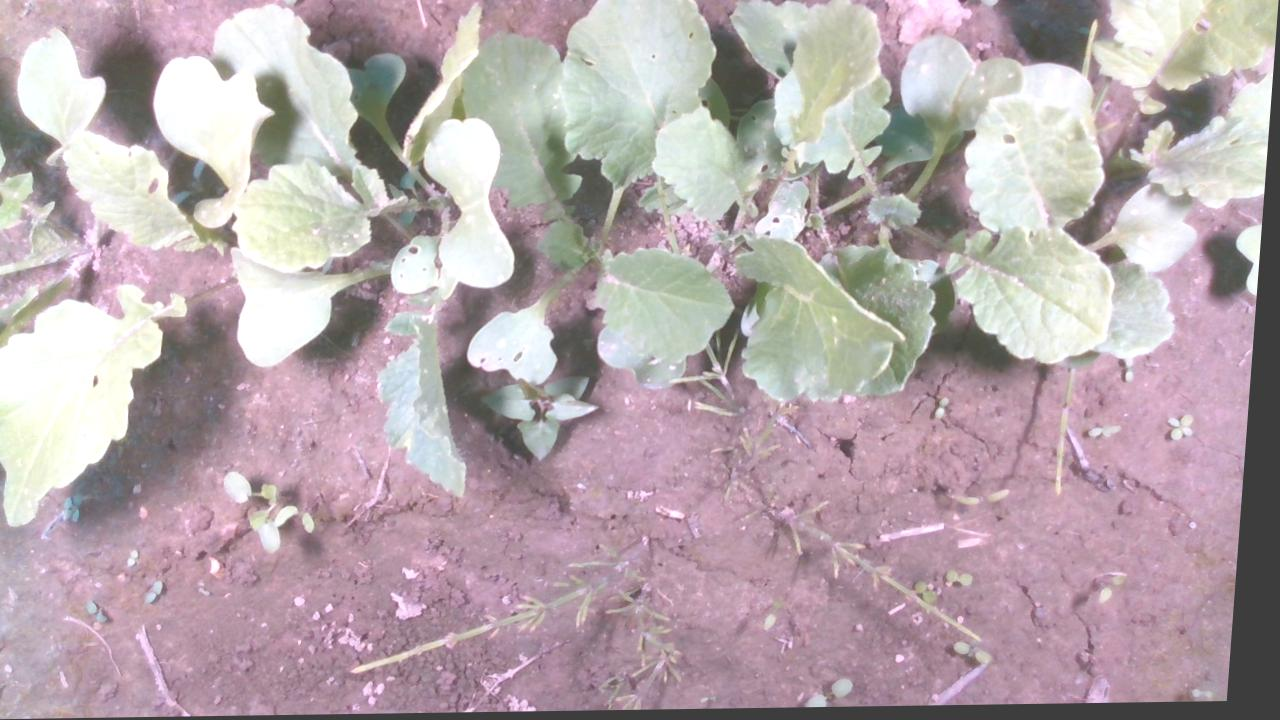weed: (956, 490, 1019, 509), (960, 642, 1004, 668), (1105, 576, 1136, 608), (1169, 416, 1201, 444), (66, 492, 89, 523), (95, 599, 118, 623), (1092, 426, 1127, 441), (153, 579, 172, 605), (953, 572, 982, 588), (941, 398, 955, 420), (134, 548, 147, 567)
